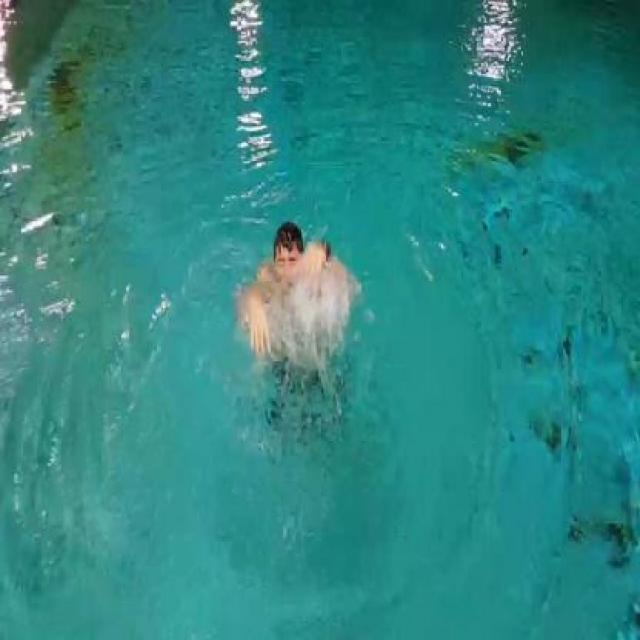Drowning: (237, 214, 358, 360)
